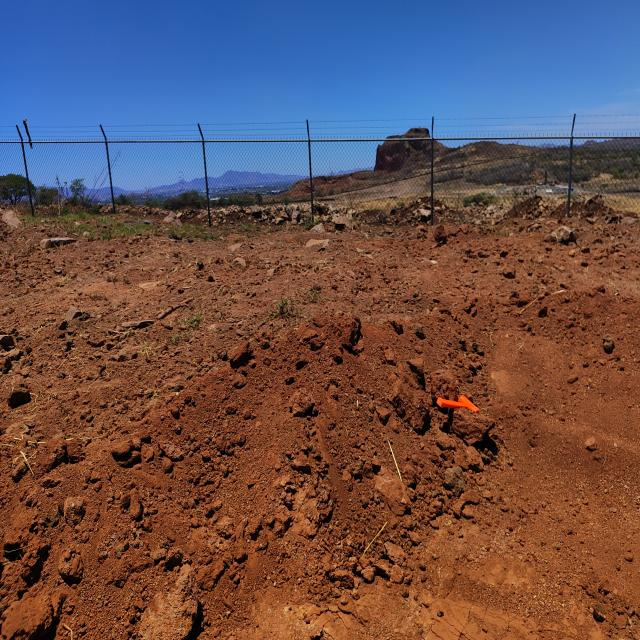Orange_hammer: (436, 394, 480, 414)
